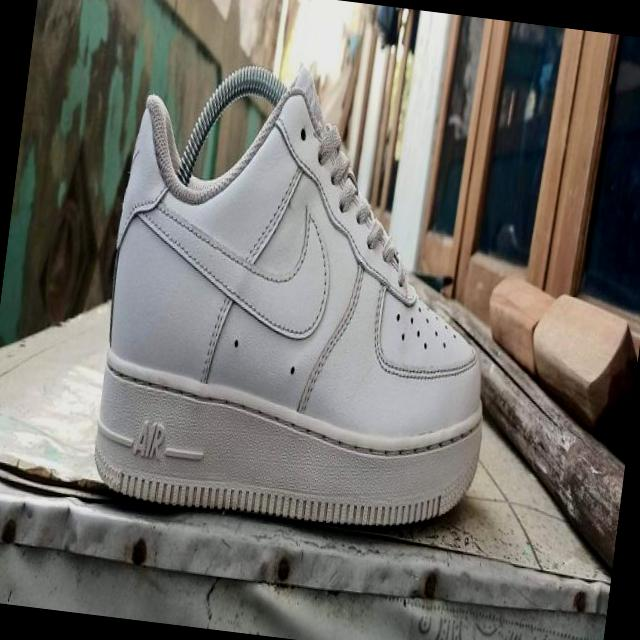nike_original_airforce: (77, 49, 530, 562)
